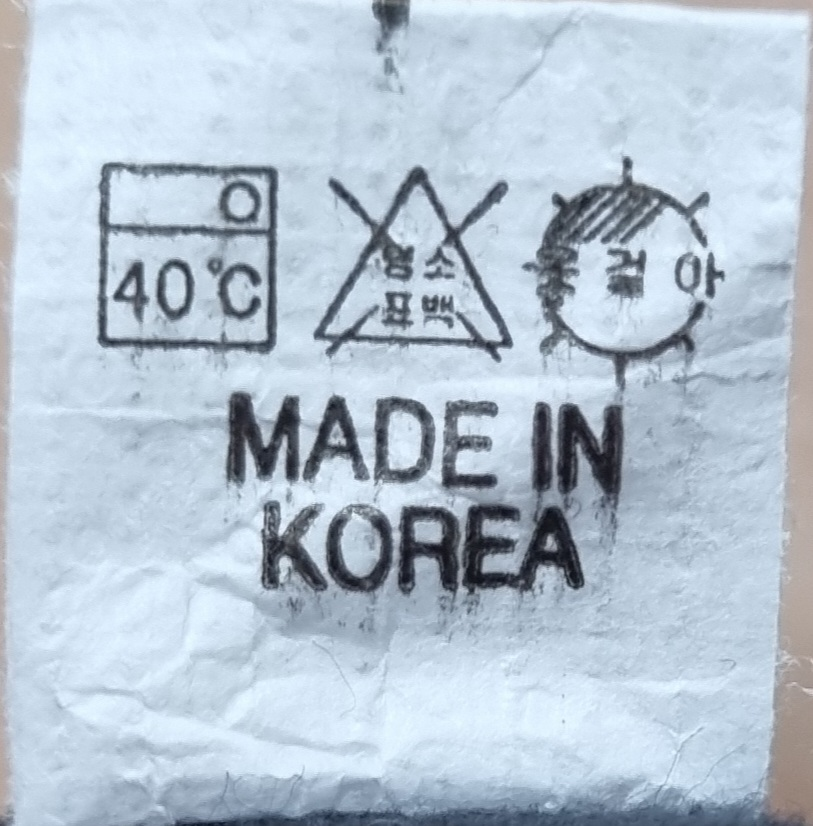KR_hang_dry_in_shade: (523, 161, 719, 382)
KR_no_chlorine_bleach: (307, 139, 522, 373)
KR_wash_40: (84, 142, 290, 368)
